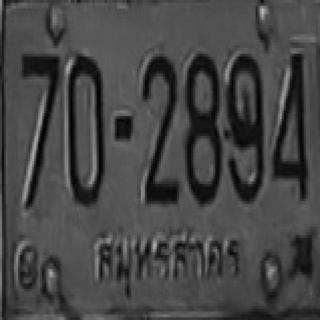N00: (67, 52, 106, 205)
N02: (141, 54, 177, 195), (141, 52, 177, 183)
N04: (272, 51, 306, 198)
N07: (20, 51, 60, 207)
N08: (183, 52, 221, 202)
N09: (225, 52, 262, 202)
P58: (86, 223, 245, 303)
